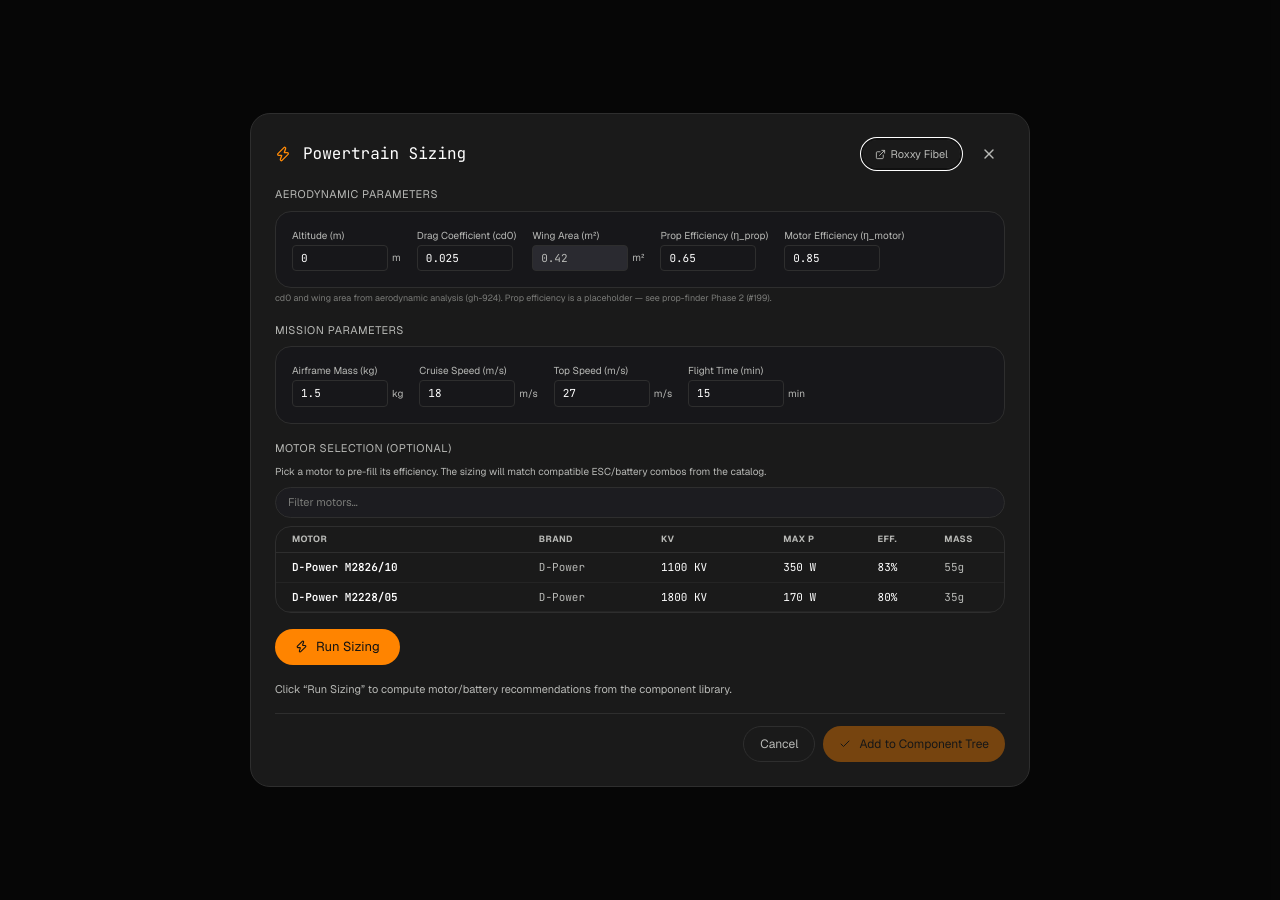
Test: PowertrainSizingModal › renders results table when candidates are returned
Click the button with test id "run-sizing-btn".
click(337, 647)  # box [275,629,400,664]
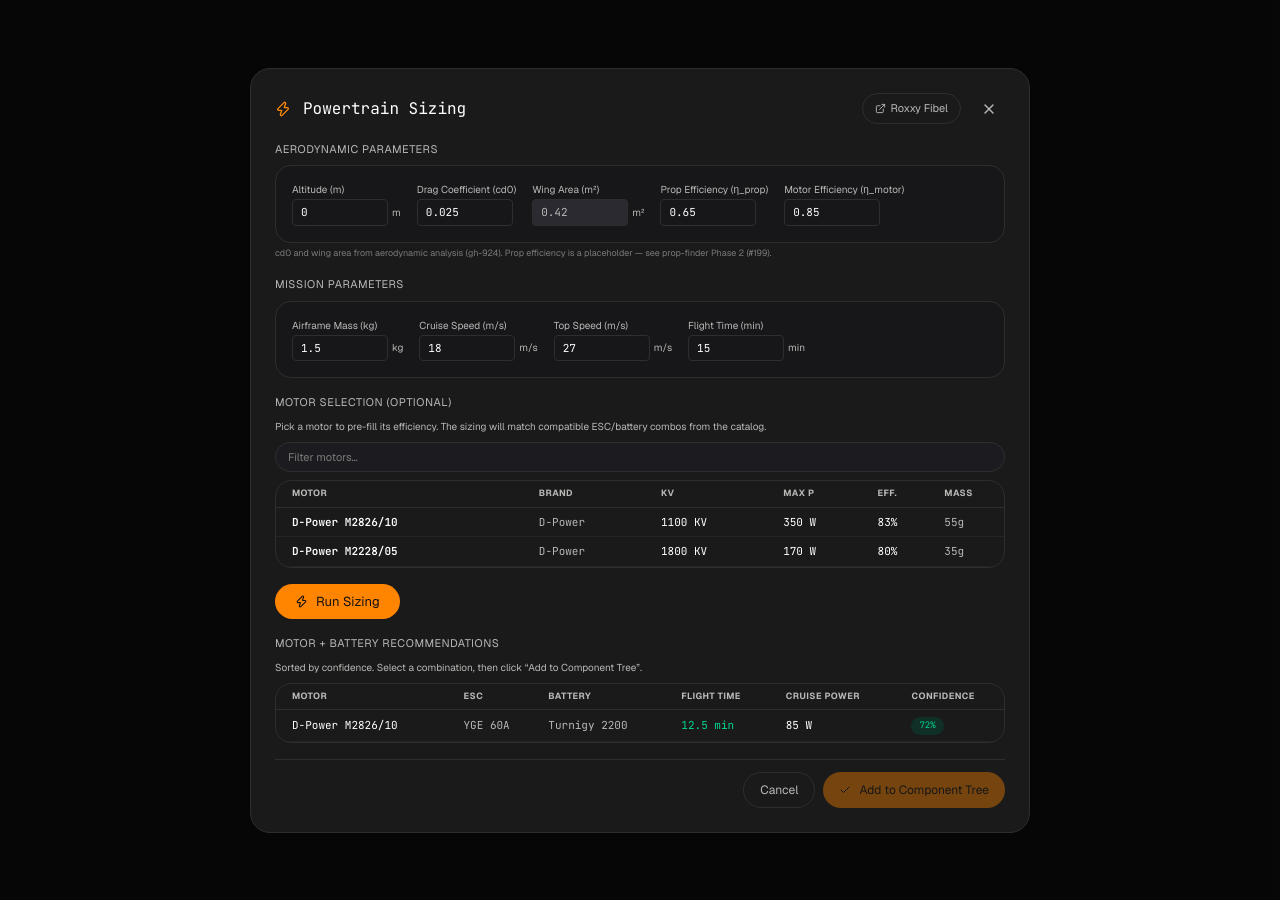
Check: the element with test id "results-section" is shown, box [275,635,1005,742]
